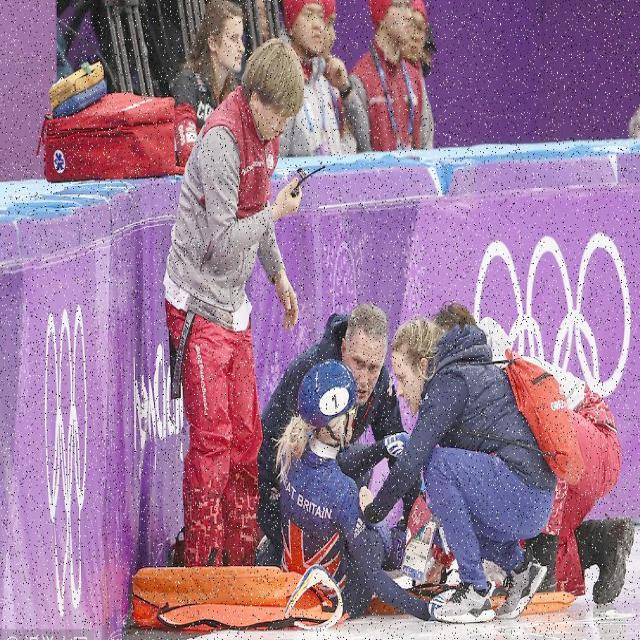fall: (274, 373, 410, 617)
